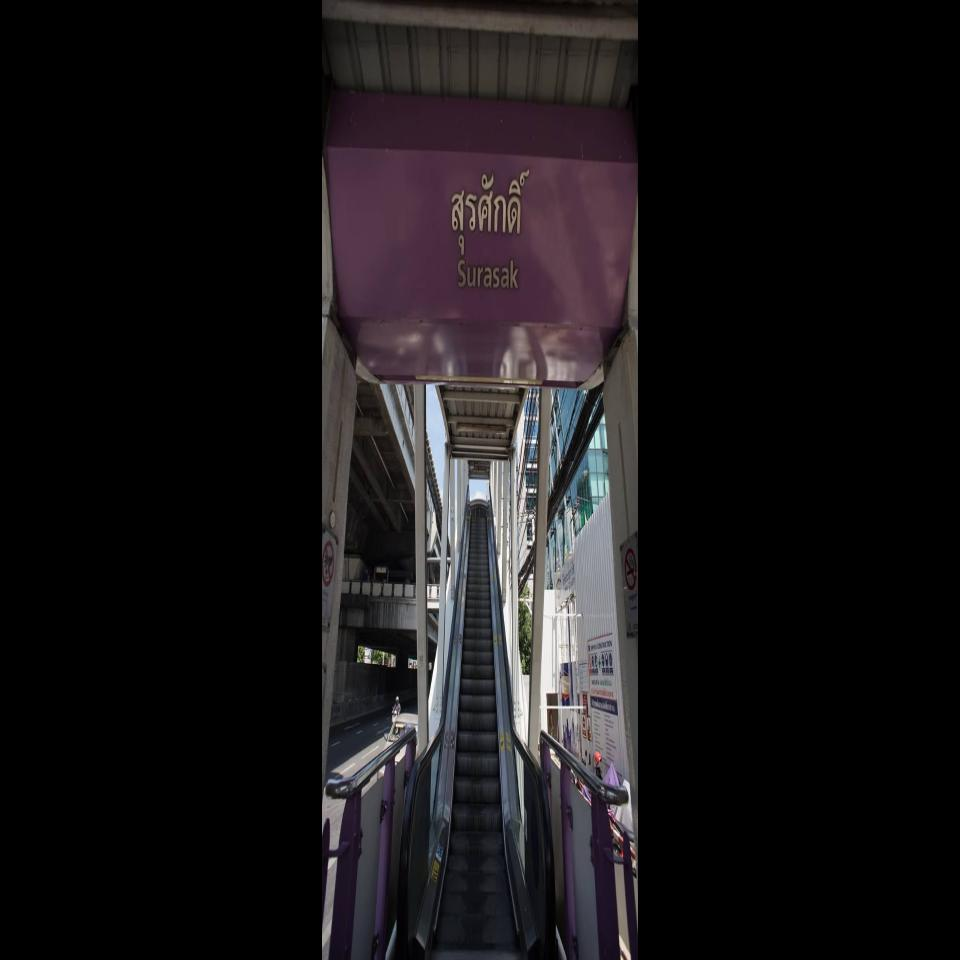signage: (323, 145, 638, 326)
